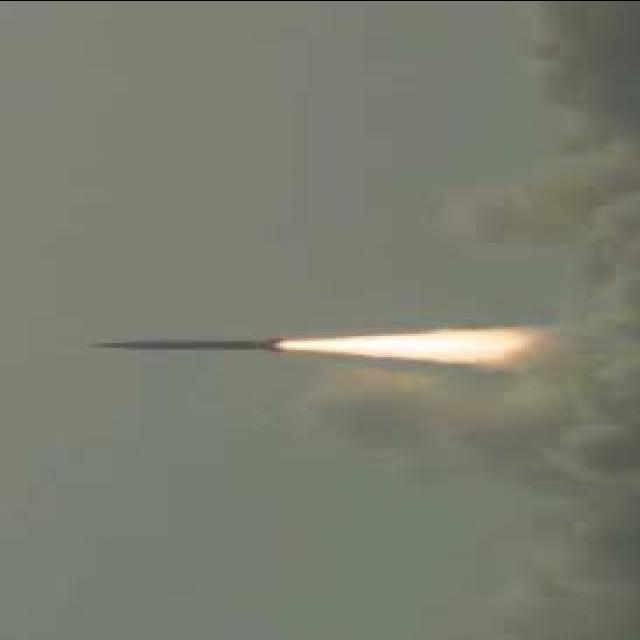missile: (94, 332, 306, 367)
